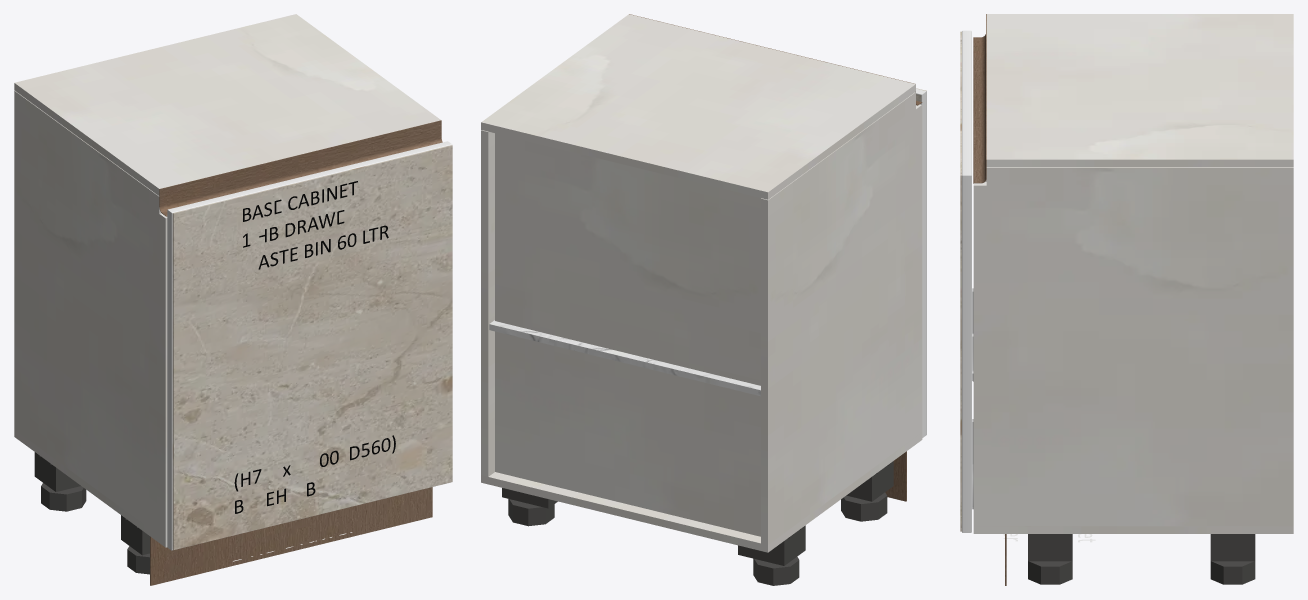
File: BC1EHWB_CJ (H720xW600xD560).glb
3 views of the same model, side by side, from view 1: azimuth 30°, elevation 25°; view 2: azimuth 150°, elevation 25°; view 3: azimuth 270°, elevation 25° (orthographic). The views are drawn at different scales.
Size of what is drawn, in the model's own units: 0.6 by 0.82 by 0.5898.
9 materials, 4 textured.
